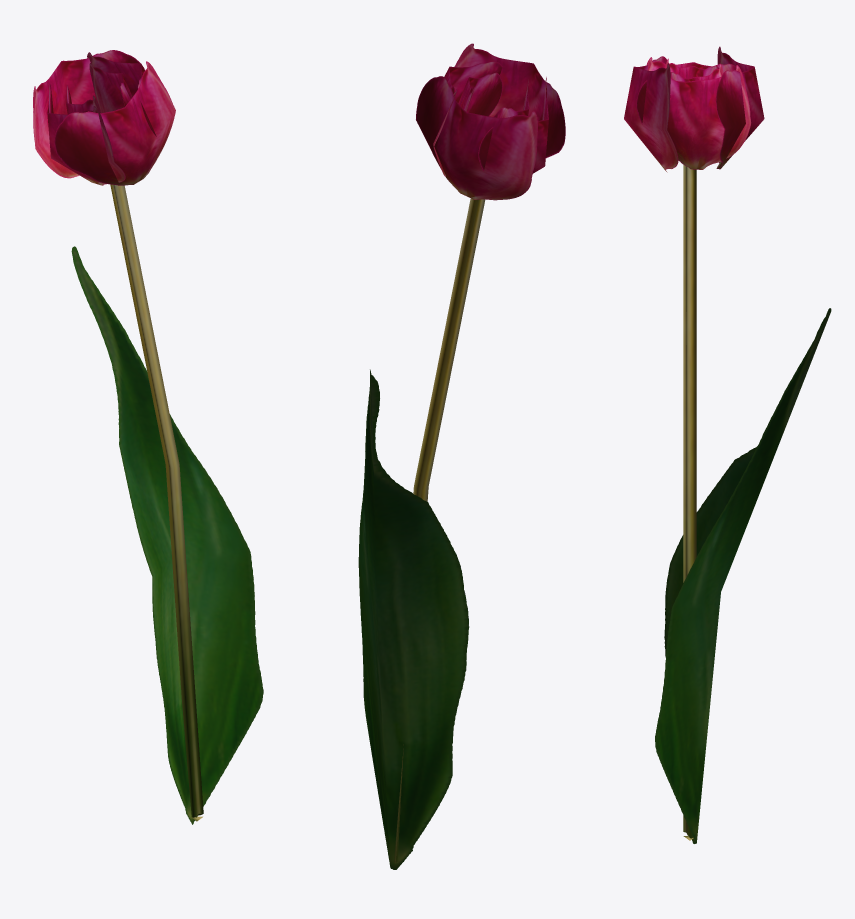
The model's file is Product_tulip_pink.FBX.
3 renders of one model, left to right at view 1: azimuth 30°, elevation 25°; view 2: azimuth 150°, elevation 25°; view 3: azimuth 270°, elevation 25°, orthographic. The views are drawn at different scales.
Visible parts, largest first — view 1: product_tulip_pink_LOD00; view 2: product_tulip_pink_LOD00; view 3: product_tulip_pink_LOD00.
Boxes of the visible parts, x1,y1,x2,y2 form: product_tulip_pink_LOD00: (33, 50, 263, 824); product_tulip_pink_LOD00: (358, 43, 565, 869); product_tulip_pink_LOD00: (624, 46, 831, 843).
Size of what is drawn, in the model's own units: 0.16 by 0.5159 by 0.1316.
